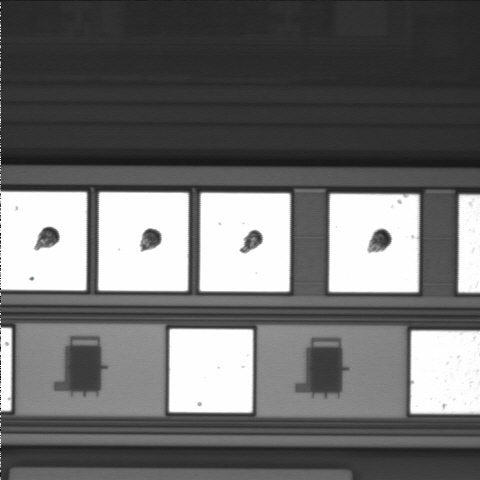pad: (98, 192, 188, 291), (200, 193, 290, 292), (329, 194, 419, 292), (169, 329, 253, 412)
